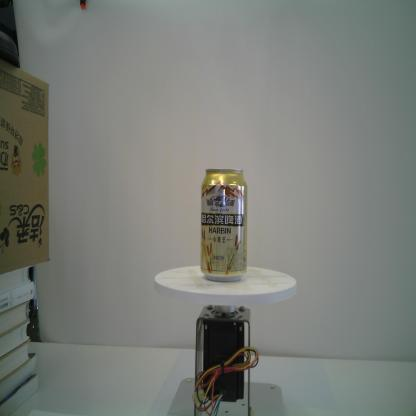Alcohol: (198, 166, 250, 284)
